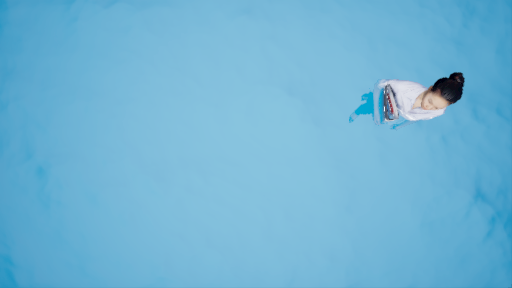person: (348, 74, 463, 134)
